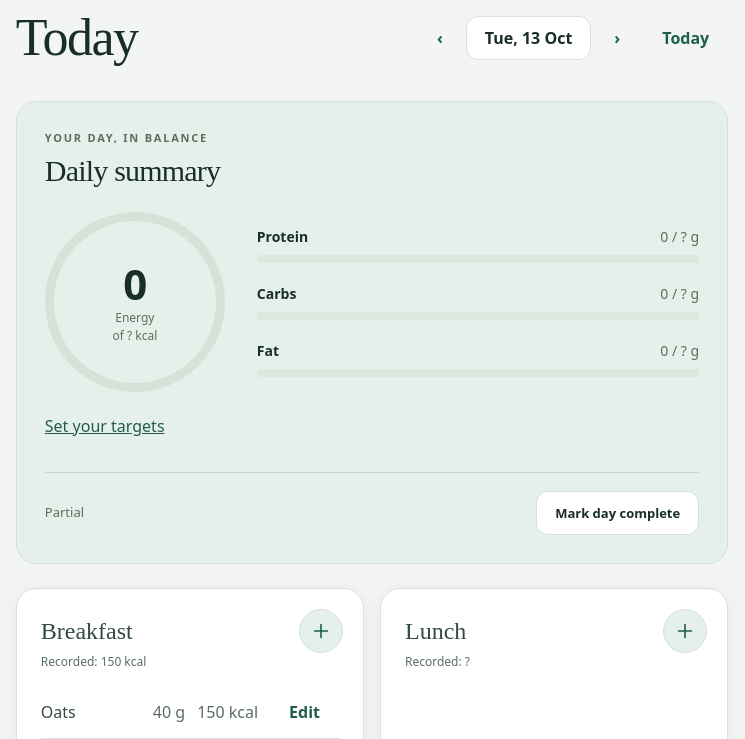
Test case: DayPage › mark_day_complete_calls_api
The width and height of the screenshot is (745, 739).
Click the button "Mark day complete" at (618, 513), box [536, 491, 699, 535]
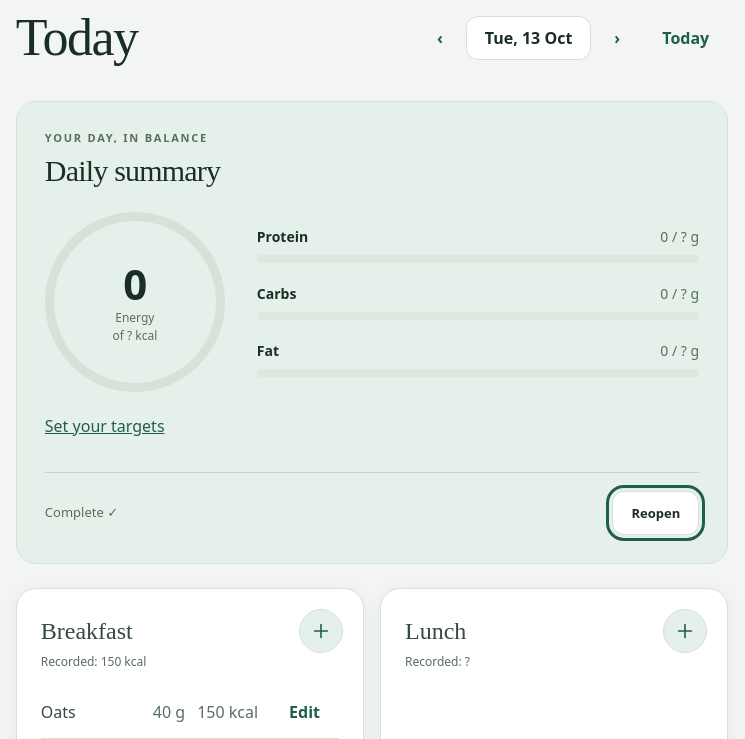
Check: the button "Reopen" is shown, box [612, 491, 699, 535]
Check: the text "Complete ✓" is shown, box [45, 503, 118, 523]
